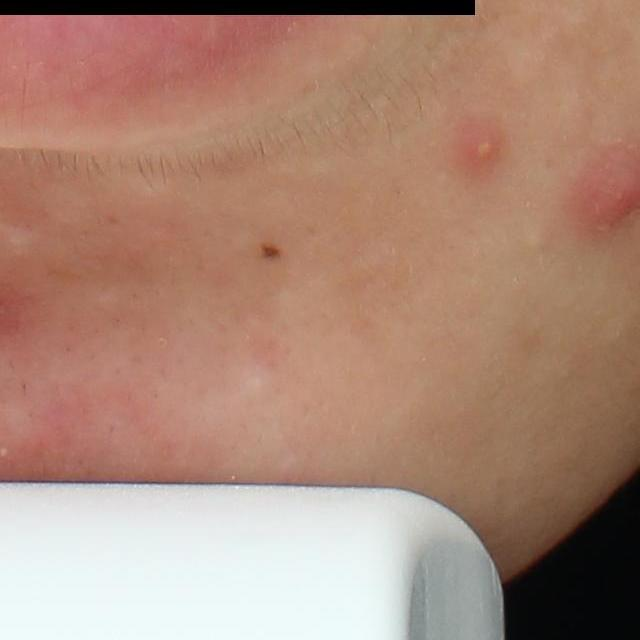comedo: (520, 220, 554, 254)
nevus: (262, 240, 285, 261)
pustule: (466, 124, 509, 168)
